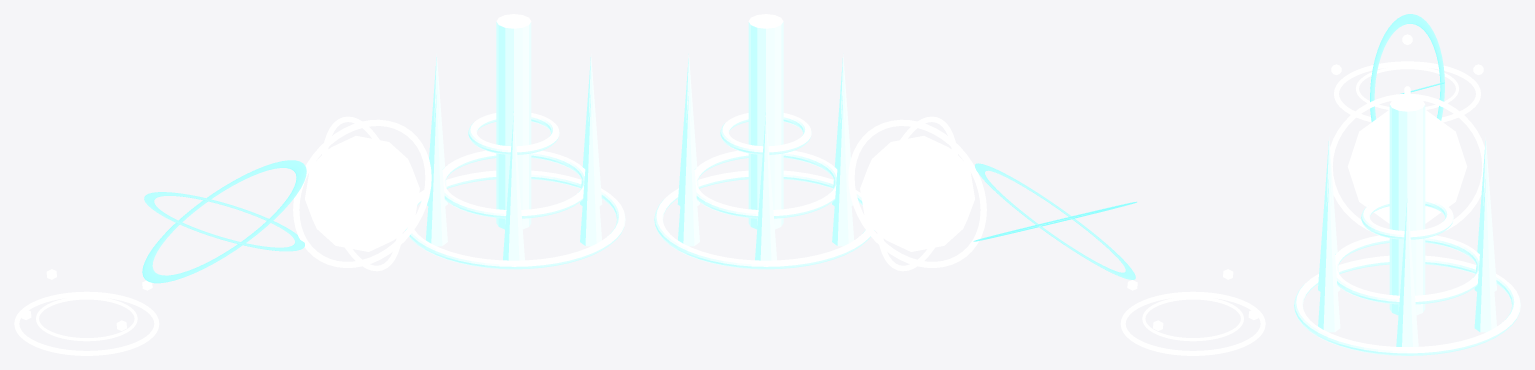
File: nala_skills_vfx.glb
The picture shows the model from 3 angles, left to right: view 1: azimuth 30°, elevation 25°; view 2: azimuth 150°, elevation 25°; view 3: azimuth 270°, elevation 25°; orthographic projection.
Visible parts, largest first — view 1: VFX_Ultimate, VFX_Skill_2, VFX_Skill_1, VFX_Passive; view 2: VFX_Ultimate, VFX_Skill_2, VFX_Passive, VFX_Skill_1; view 3: VFX_Ultimate, VFX_Skill_2, VFX_Passive, VFX_Skill_1.
Boxes of the visible parts, bbox=[...] form: VFX_Ultimate: bbox=[405, 14, 625, 269]; VFX_Skill_2: bbox=[293, 116, 431, 271]; VFX_Skill_1: bbox=[142, 160, 306, 283]; VFX_Passive: bbox=[14, 269, 159, 355]; VFX_Ultimate: bbox=[654, 14, 874, 269]; VFX_Skill_2: bbox=[848, 116, 986, 271]; VFX_Passive: bbox=[1120, 269, 1265, 355]; VFX_Skill_1: bbox=[973, 163, 1136, 279]; VFX_Ultimate: bbox=[1294, 96, 1520, 355]; VFX_Skill_2: bbox=[1330, 86, 1484, 230]; VFX_Passive: bbox=[1331, 34, 1483, 122]; VFX_Skill_1: bbox=[1370, 14, 1444, 121].
Bounding box in the file's own units: 8.55 × 2.88 × 2.81.
